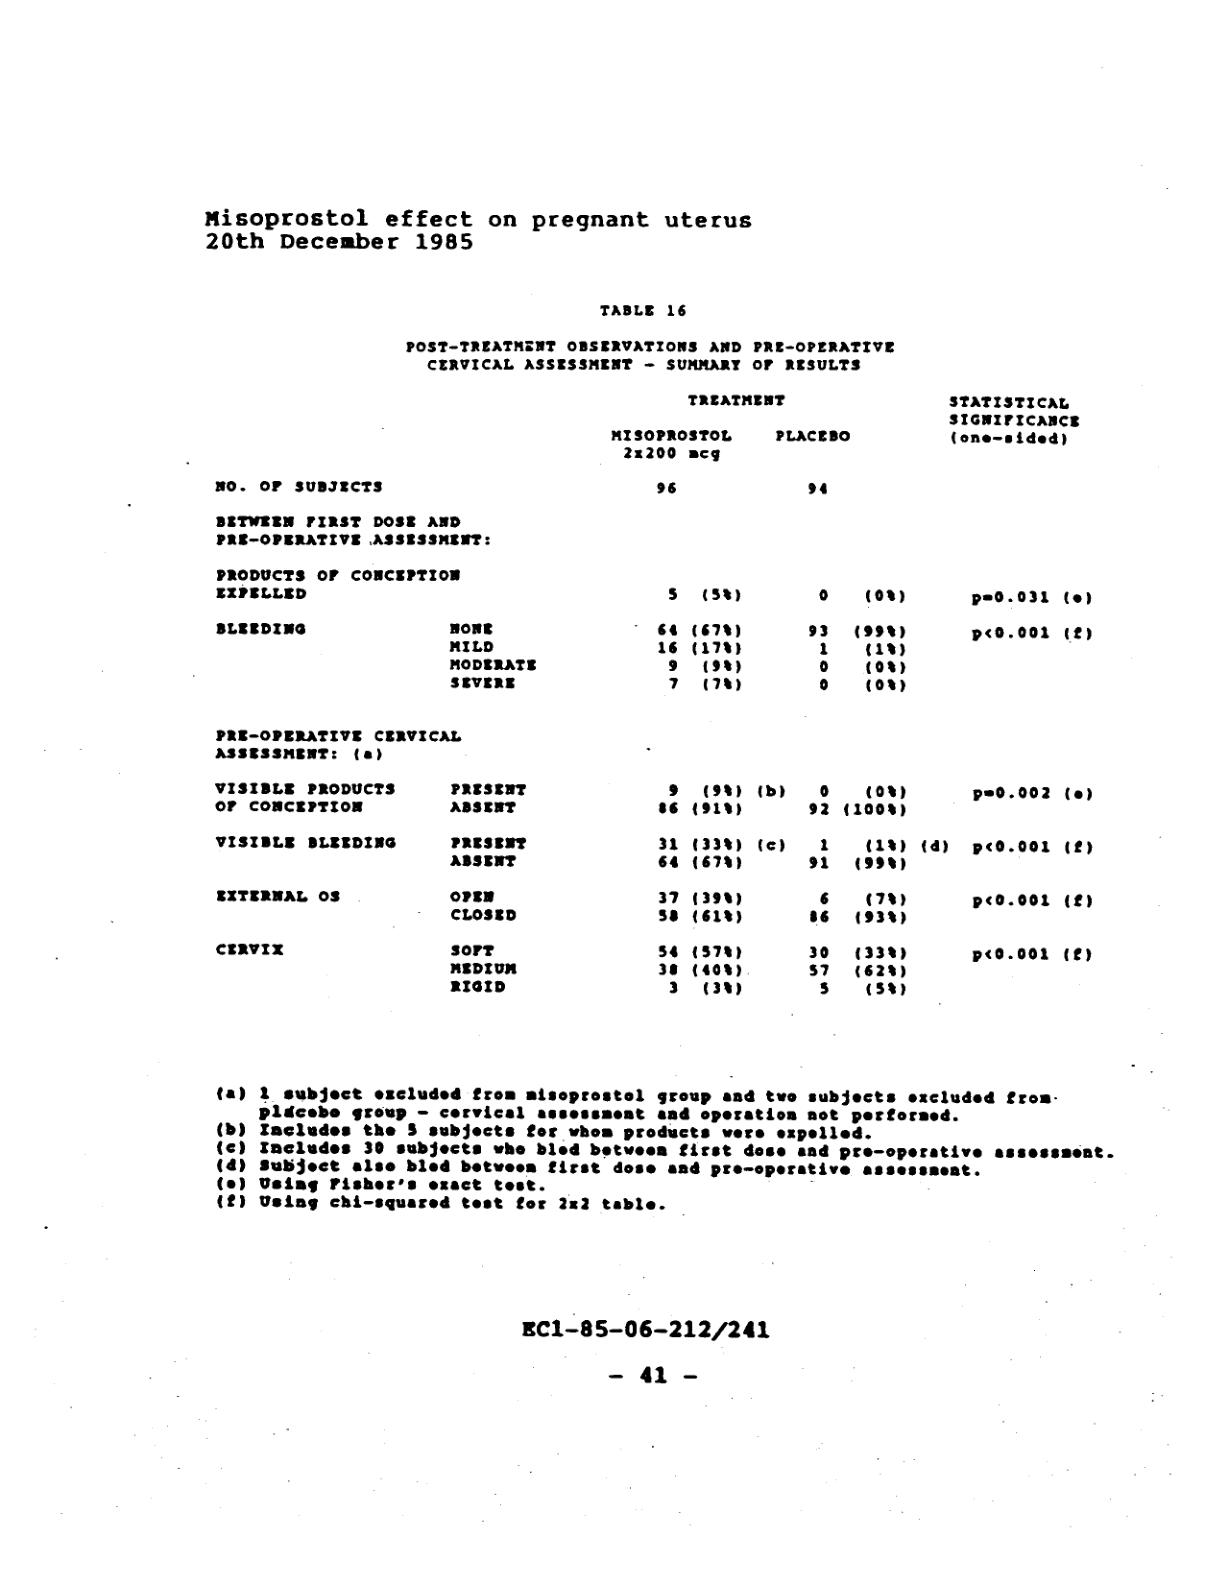nolines: (211, 391, 1095, 996)
